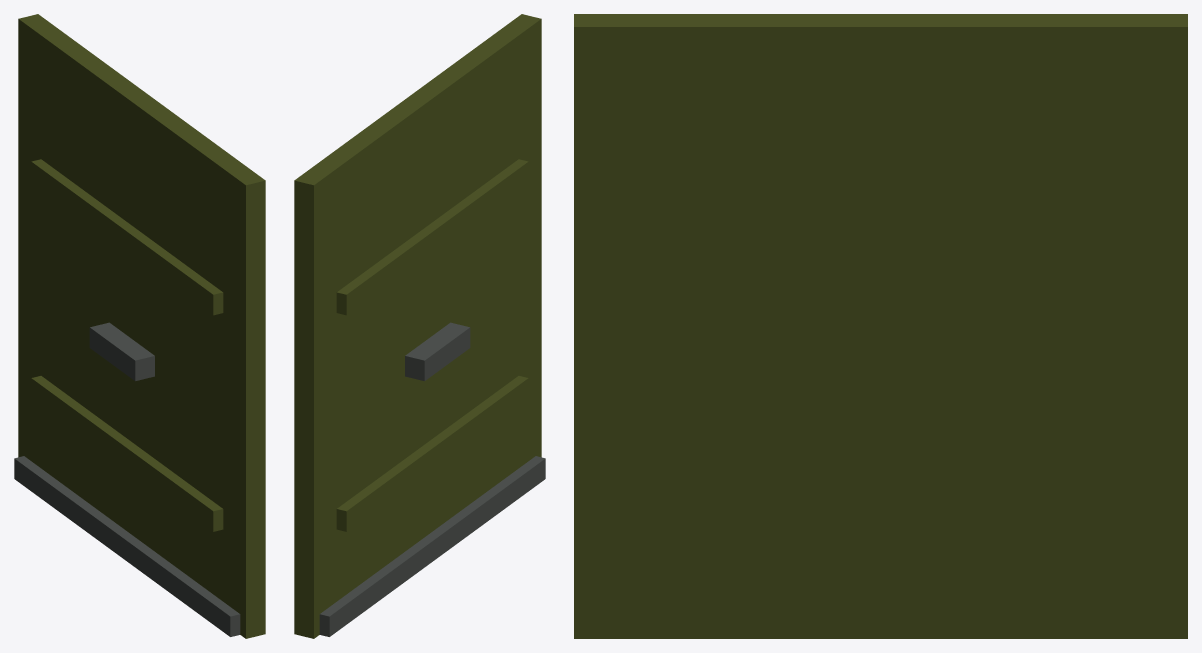
The model's file is apc_ramp.glb.
The picture shows the model from 3 angles, left to right: view 1: azimuth 30°, elevation 25°; view 2: azimuth 150°, elevation 25°; view 3: azimuth 270°, elevation 25°; orthographic projection. The views are drawn at different scales.
Parts seen in each view (by area): view 1: body:compound; view 2: body:compound; view 3: body:compound.
Part boxes in pixels (x1,y1,x2,y2): body:compound: (14,14,265,638); body:compound: (294,14,545,638); body:compound: (574,14,1187,638).
Size of the model in its own units: 0.125 by 1.38 by 1.25.
